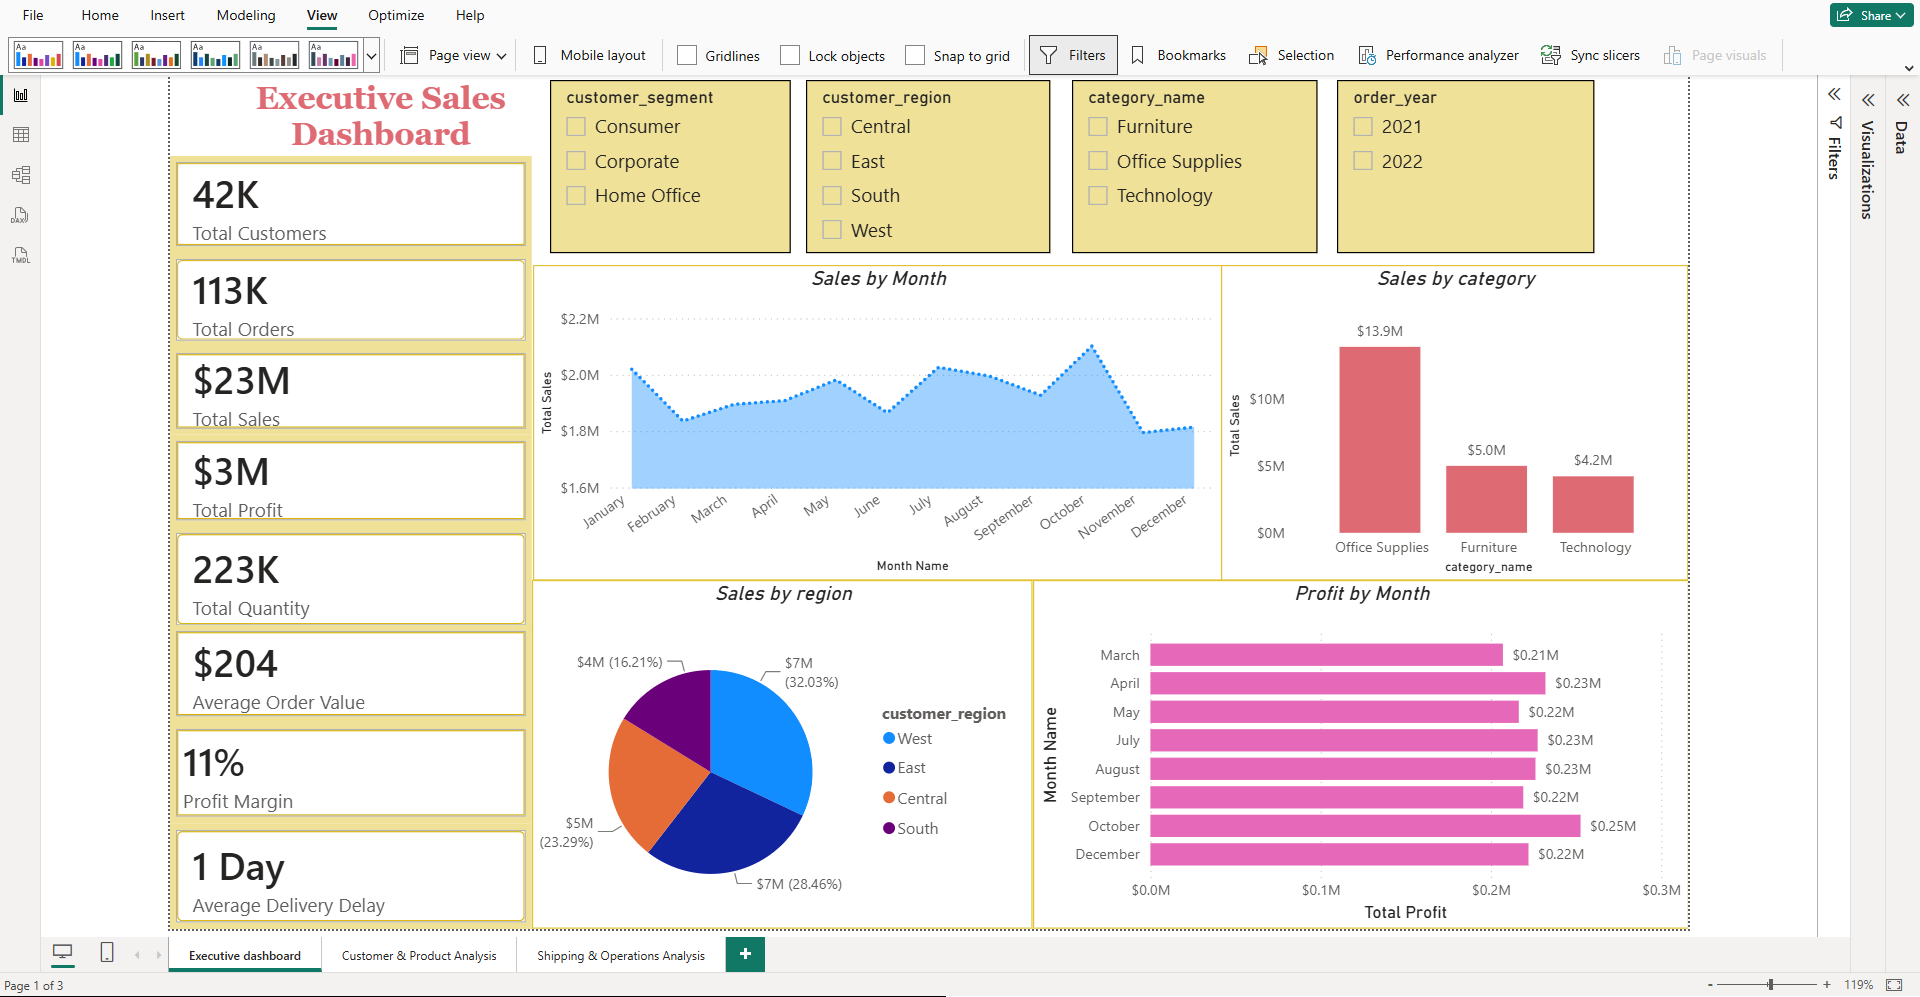

The dashboard page shown, as its layout file describes it:
{"tool":"powerbi","page":{"name":"Executive dashboard","canvas":[1280,720],"ordinal":0},"visuals":[{"type":"textbox","box":[0,0,355.4,76.8],"z":0},{"type":"stackedAreaChart","title":"Sales by Month ","fields":{"Category":["Calender.Month Name"],"Y":["Ecommerce_data.Total Sales"]},"box":[305.8,159.9,580.7,265.5],"z":1000},{"type":"columnChart","title":"Sales by category ","fields":{"Category":["Ecommerce_data.category_name"],"Y":["Ecommerce_data.Total Sales"]},"box":[886.3,159.9,393.7,265.8],"z":2000},{"type":"pieChart","title":" Sales by region","fields":{"Category":["Ecommerce_data.customer_region"],"Y":["Ecommerce_data.Total Sales"]},"box":[305.4,426,422.1,293.7],"z":3000},{"type":"barChart","title":"Profit by Month ","fields":{"Category":["Calender.Month Name"],"Y":["Ecommerce_data.Total Profit"]},"box":[727.4,425.7,552.6,293.8],"z":4000},{"type":"cardVisual","fields":{"Data":["Ecommerce_data.Total Customers"]},"box":[0,68.1,305.4,81.7],"z":5000},{"type":"cardVisual","fields":{"Data":["Ecommerce_data.Total Orders"]},"box":[0,149.8,305.4,79.8],"z":6000},{"type":"cardVisual","fields":{"Data":["Ecommerce_data.Total Sales"]},"box":[0,229.2,305,74.2],"z":7000},{"type":"cardVisual","fields":{"Data":["Ecommerce_data.Total Profit"]},"box":[0,303.5,305.4,77.8],"z":8000},{"type":"cardVisual","fields":{"Data":["Ecommerce_data.Total Quantity"]},"box":[0,381.3,305.4,88.5],"z":9000},{"type":"cardVisual","fields":{"Data":["Ecommerce_data.Average Order Value"]},"box":[0,464,305.4,82.7],"z":10000},{"type":"cardVisual","fields":{"Data":["Ecommerce_data.Profit Margin"]},"box":[0,546.6,305.4,84.6],"z":11000},{"type":"cardVisual","fields":{"Data":["Ecommerce_data.Average Delivery Delay"]},"box":[0,631.2,305.4,88.5],"z":12000},{"type":"slicer","fields":{"Values":["Ecommerce_data.order_year"]},"box":[984.2,4.3,216.9,145.9],"z":13000},{"type":"slicer","fields":{"Values":["Ecommerce_data.category_name"]},"box":[760.8,4.3,207.2,145.9],"z":14000},{"type":"slicer","fields":{"Values":["Ecommerce_data.customer_region"]},"box":[536.5,4.3,206.2,145.9],"z":15000},{"type":"slicer","fields":{"Values":["Ecommerce_data.customer_segment"]},"box":[320,4.3,203.3,145.9],"z":16000}]}

Visuals, with their boxes on the page's 1280x720 design canvas (x1, y1, x2, y2). These are canvas units, not pixel positions in the 1920x997 screenshot, which may show the page scaled, cropped or inside an application window:
textbox: (x1=0, y1=0, x2=355, y2=77)
"Sales by Month " stackedAreaChart: (x1=306, y1=160, x2=886, y2=425)
"Sales by category " columnChart: (x1=886, y1=160, x2=1280, y2=426)
" Sales by region" pieChart: (x1=305, y1=426, x2=728, y2=720)
"Profit by Month " barChart: (x1=727, y1=426, x2=1280, y2=720)
cardVisual - Ecommerce_data.Total Customers: (x1=0, y1=68, x2=305, y2=150)
cardVisual - Ecommerce_data.Total Orders: (x1=0, y1=150, x2=305, y2=230)
cardVisual - Ecommerce_data.Total Sales: (x1=0, y1=229, x2=305, y2=303)
cardVisual - Ecommerce_data.Total Profit: (x1=0, y1=304, x2=305, y2=381)
cardVisual - Ecommerce_data.Total Quantity: (x1=0, y1=381, x2=305, y2=470)
cardVisual - Ecommerce_data.Average Order Value: (x1=0, y1=464, x2=305, y2=547)
cardVisual - Ecommerce_data.Profit Margin: (x1=0, y1=547, x2=305, y2=631)
cardVisual - Ecommerce_data.Average Delivery Delay: (x1=0, y1=631, x2=305, y2=720)
slicer - Ecommerce_data.order_year: (x1=984, y1=4, x2=1201, y2=150)
slicer - Ecommerce_data.category_name: (x1=761, y1=4, x2=968, y2=150)
slicer - Ecommerce_data.customer_region: (x1=536, y1=4, x2=743, y2=150)
slicer - Ecommerce_data.customer_segment: (x1=320, y1=4, x2=523, y2=150)
